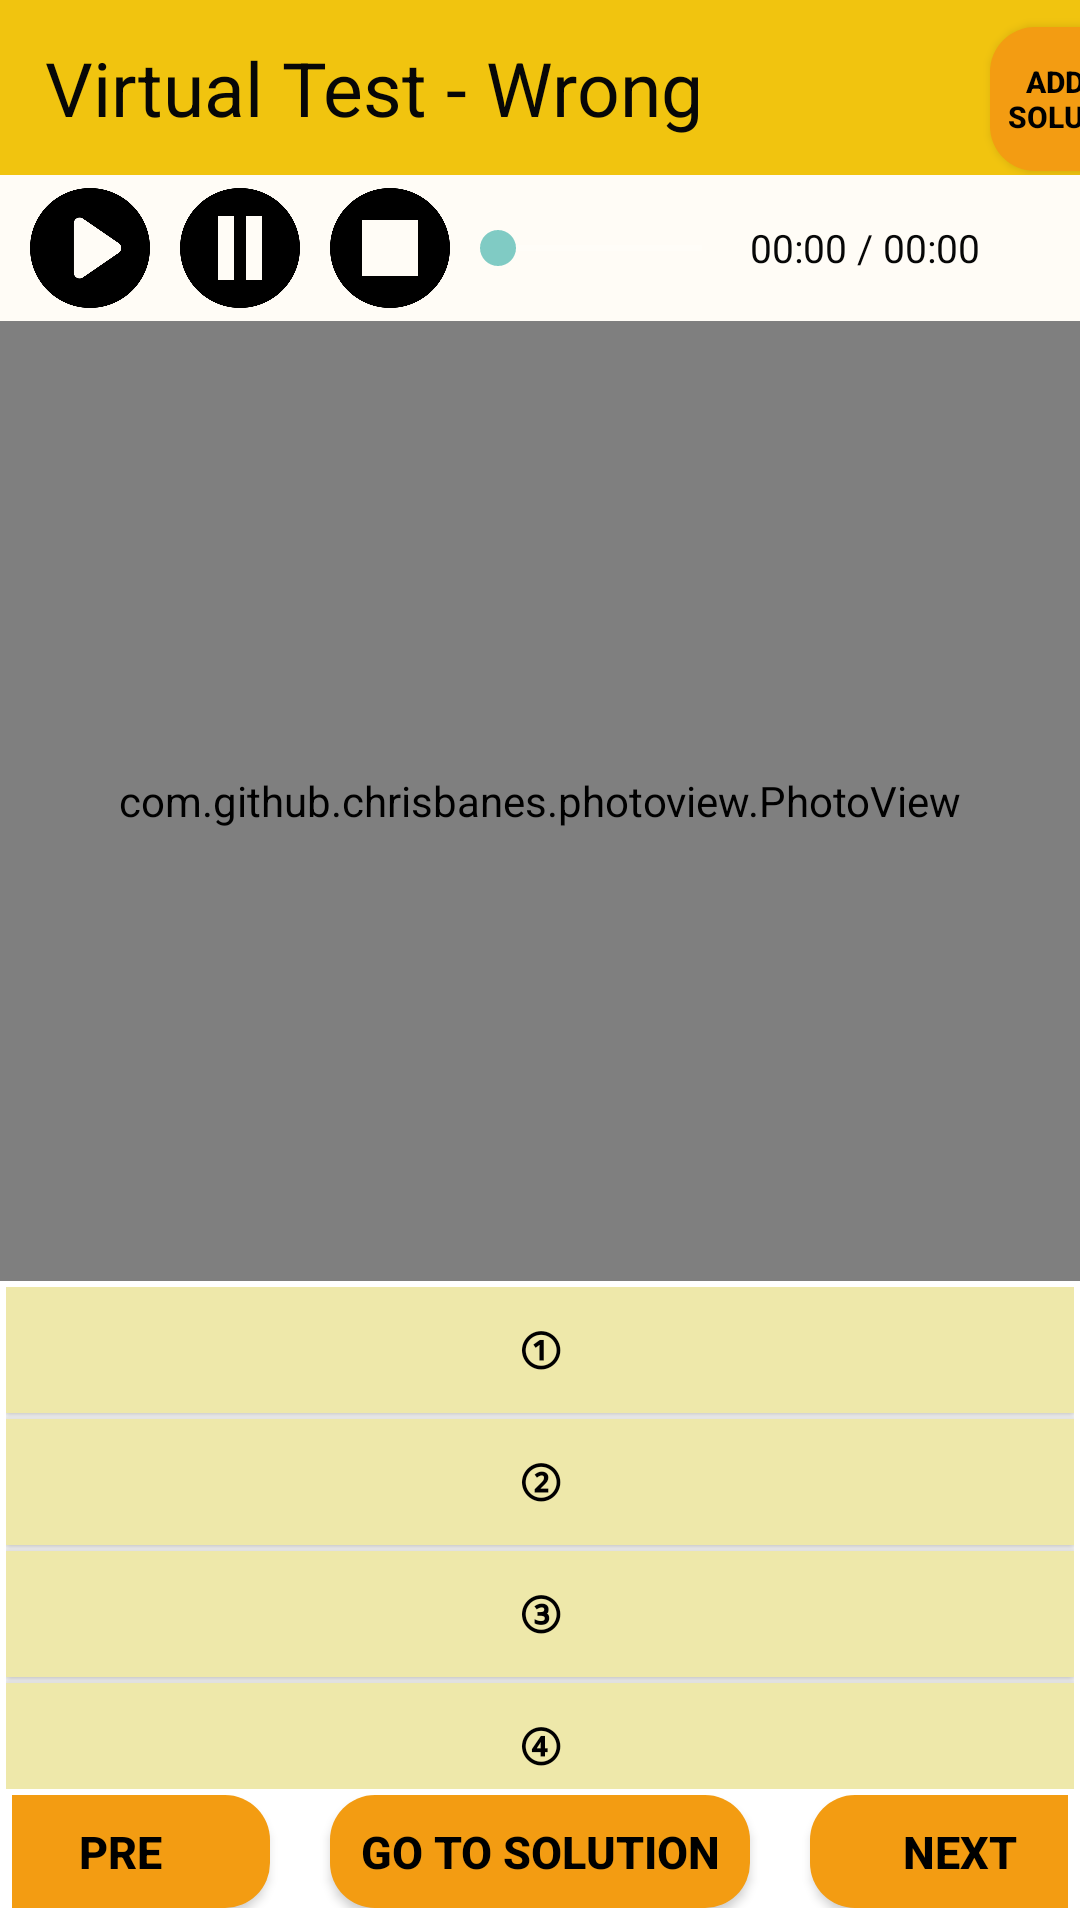

Icon bounding boxes for this 1080 x 1920 phone screenshot, format bbox(x1, y1, x2, y2):
musicstart: bbox(30, 188, 150, 308)
musicstop: bbox(330, 188, 450, 308)
pause: bbox(180, 188, 300, 308)
